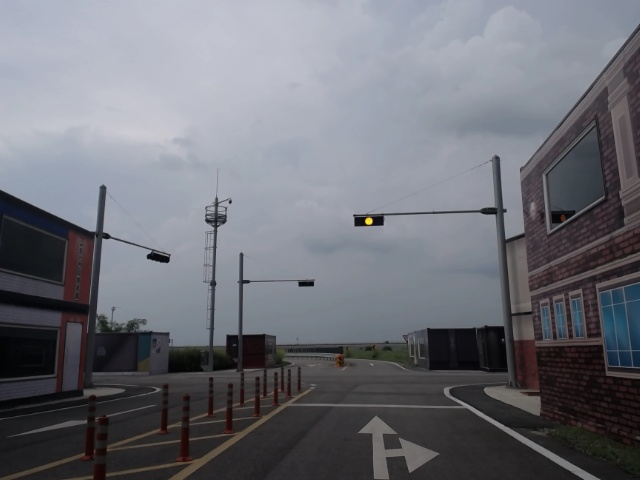orange_3: (353, 214, 384, 226)
